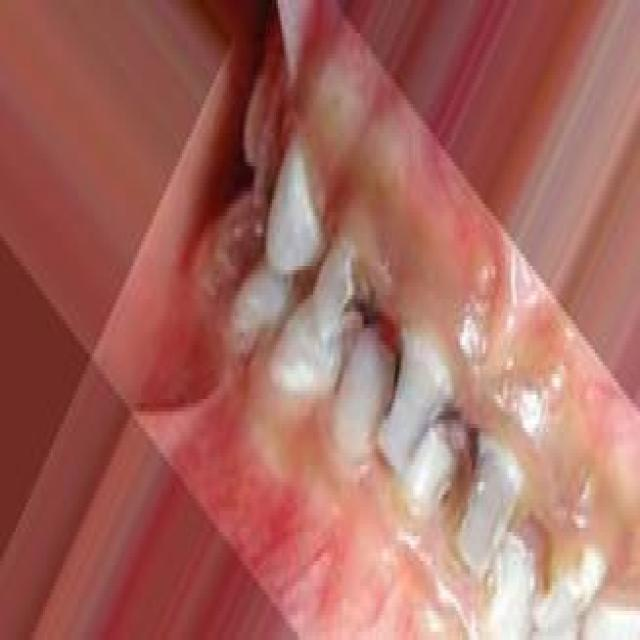caries: (372, 324, 455, 474), (449, 411, 517, 588), (530, 513, 613, 640), (315, 227, 380, 358)
